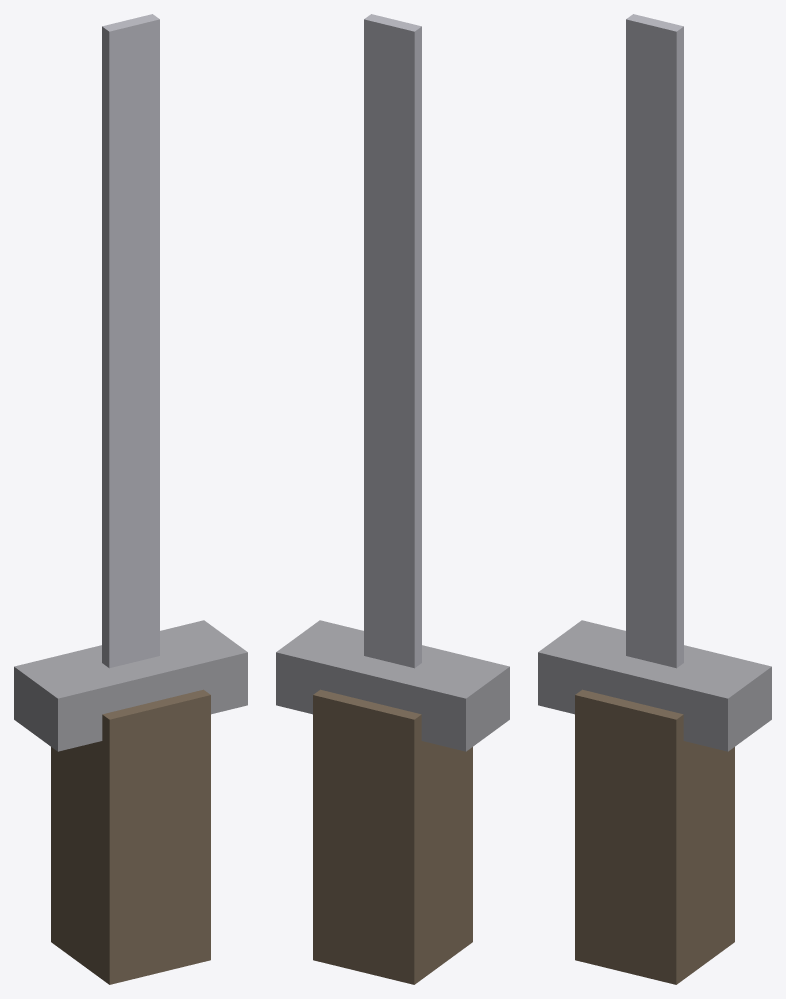
The model's file is weapon_knife.glb.
3 renders of one model, left to right at view 1: azimuth 30°, elevation 25°; view 2: azimuth 150°, elevation 25°; view 3: azimuth 330°, elevation 25°, orthographic.
Parts seen in each view (by area): view 1: geometry_0; view 2: geometry_0; view 3: geometry_0.
Part boxes in pixels (box(x1,y1,x2,y2)): geometry_0: box(14, 14, 247, 984); geometry_0: box(276, 14, 509, 984); geometry_0: box(538, 14, 771, 984).
Size of the model in its own units: 0.15 by 0.7 by 0.08.
